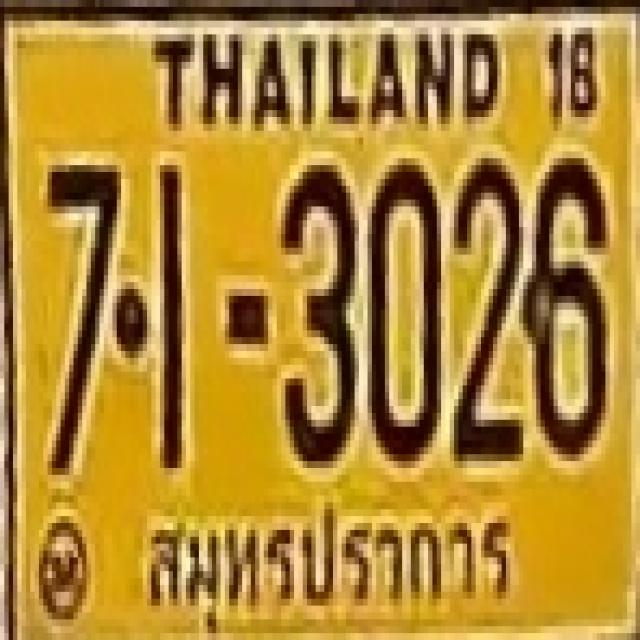0: (368, 158, 437, 454)
1: (158, 162, 184, 464)
2: (452, 152, 521, 454)
3: (276, 158, 354, 461)
6: (523, 152, 601, 448)
7: (43, 158, 117, 468)
SPK: (133, 501, 516, 634)
